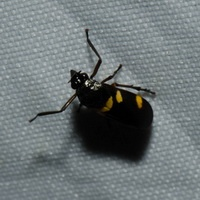insect: (29, 29, 155, 127)
